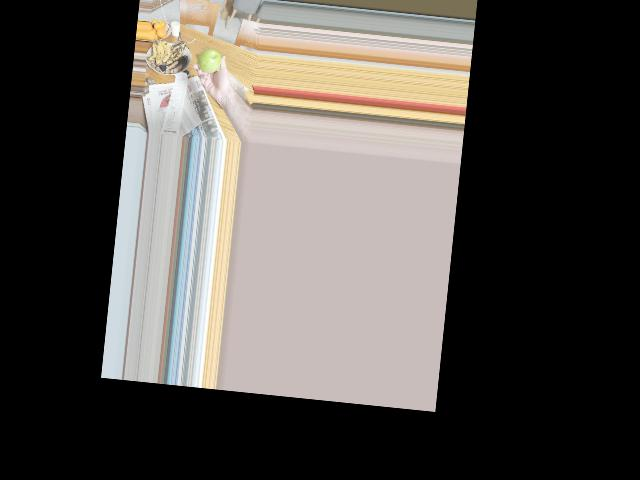apple: (195, 45, 225, 76)
